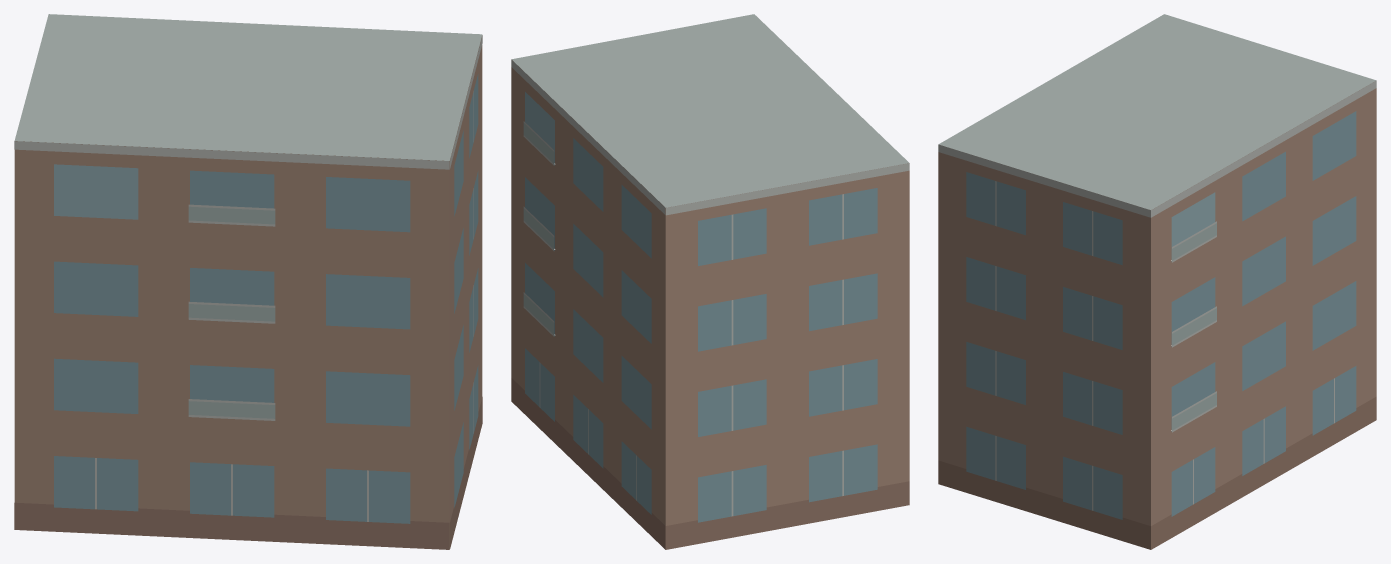
The model's file is survey-upis-32783456.glb.
3 views of the same model, side by side, from view 1: azimuth 30°, elevation 25°; view 2: azimuth 150°, elevation 25°; view 3: azimuth 270°, elevation 25° (orthographic). The views are drawn at different scales.
Parts seen in each view (by area): view 1: survey-upis-32783456.tmp; view 2: survey-upis-32783456.tmp; view 3: survey-upis-32783456.tmp.
Part boxes in pixels (x1=…): survey-upis-32783456.tmp: x1=14, y1=14, x2=482, y2=549; survey-upis-32783456.tmp: x1=511, y1=14, x2=909, y2=549; survey-upis-32783456.tmp: x1=938, y1=14, x2=1376, y2=549.
Size of the model in its own units: 13.58 by 10.95 by 12.82.
